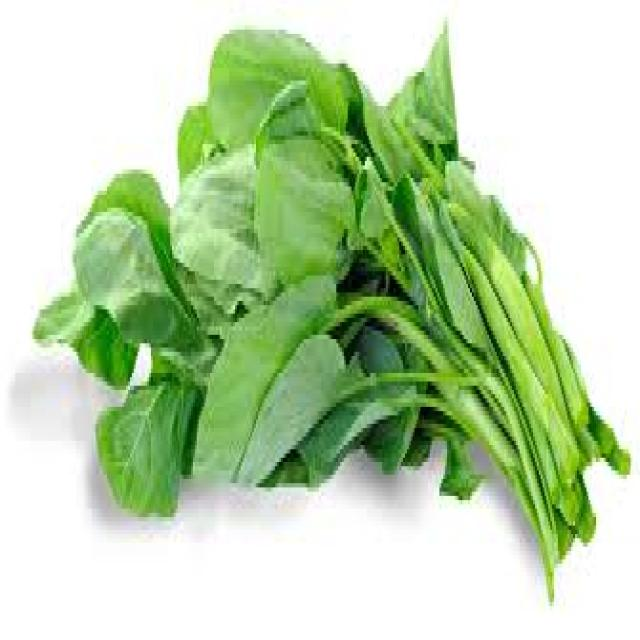spinach: (19, 15, 637, 616)
